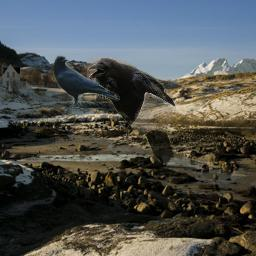Crow: (87, 58, 176, 166), (53, 54, 120, 108)
